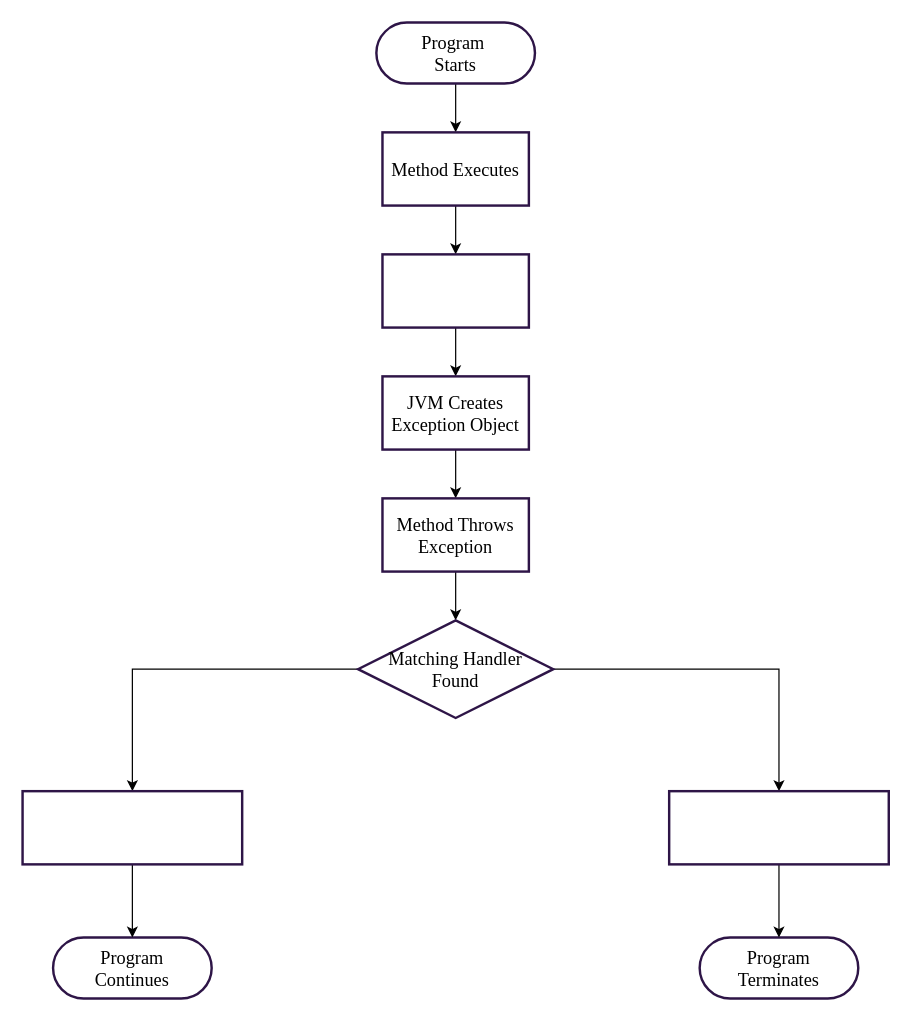
The diagram is 910 pixels wide and 1020 high, and some of its shapes have lost their labels. The centre of each missing label's shape, as x and y in pixels:
Exception Handled (By passing the Exception to catch block): point (132, 827)
Exception Occurs: point (455, 290)
JVM Prints Exception Details & Stack Trace: point (778, 827)
